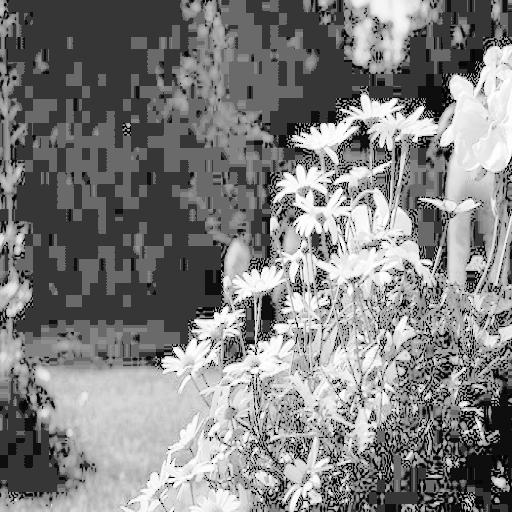daisy: (286, 452, 330, 512), (323, 252, 380, 292), (299, 195, 345, 237), (160, 343, 212, 375), (379, 114, 435, 140), (258, 337, 295, 375), (278, 171, 333, 195), (299, 122, 347, 149), (140, 466, 169, 510), (231, 269, 286, 291), (198, 312, 244, 337), (194, 490, 244, 512), (228, 356, 278, 376), (352, 97, 396, 118), (215, 397, 246, 426), (175, 417, 198, 452)
